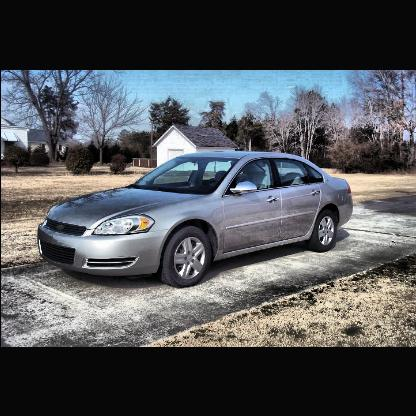Chevrolet Impala Sedan 2007: (39, 152, 355, 289)
